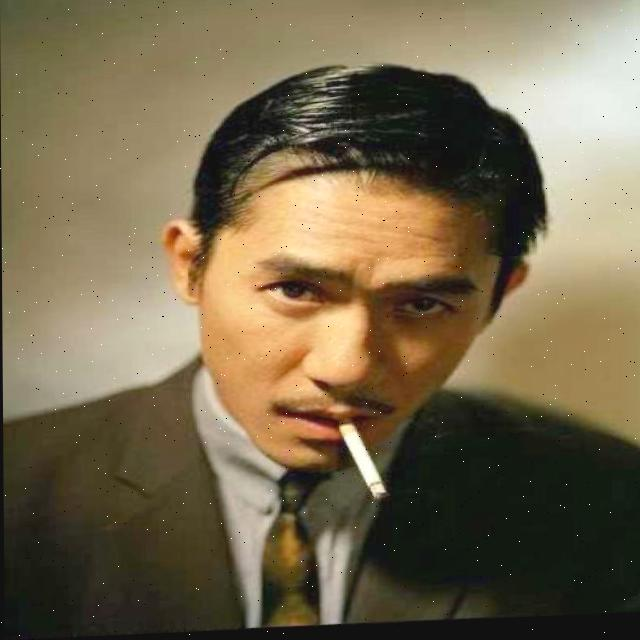cigarette: (337, 424, 387, 505)
